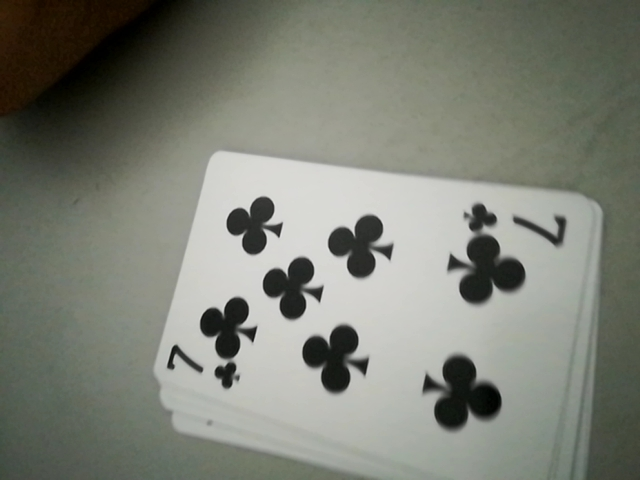mh 7: (461, 198, 574, 244), (163, 351, 240, 396)
